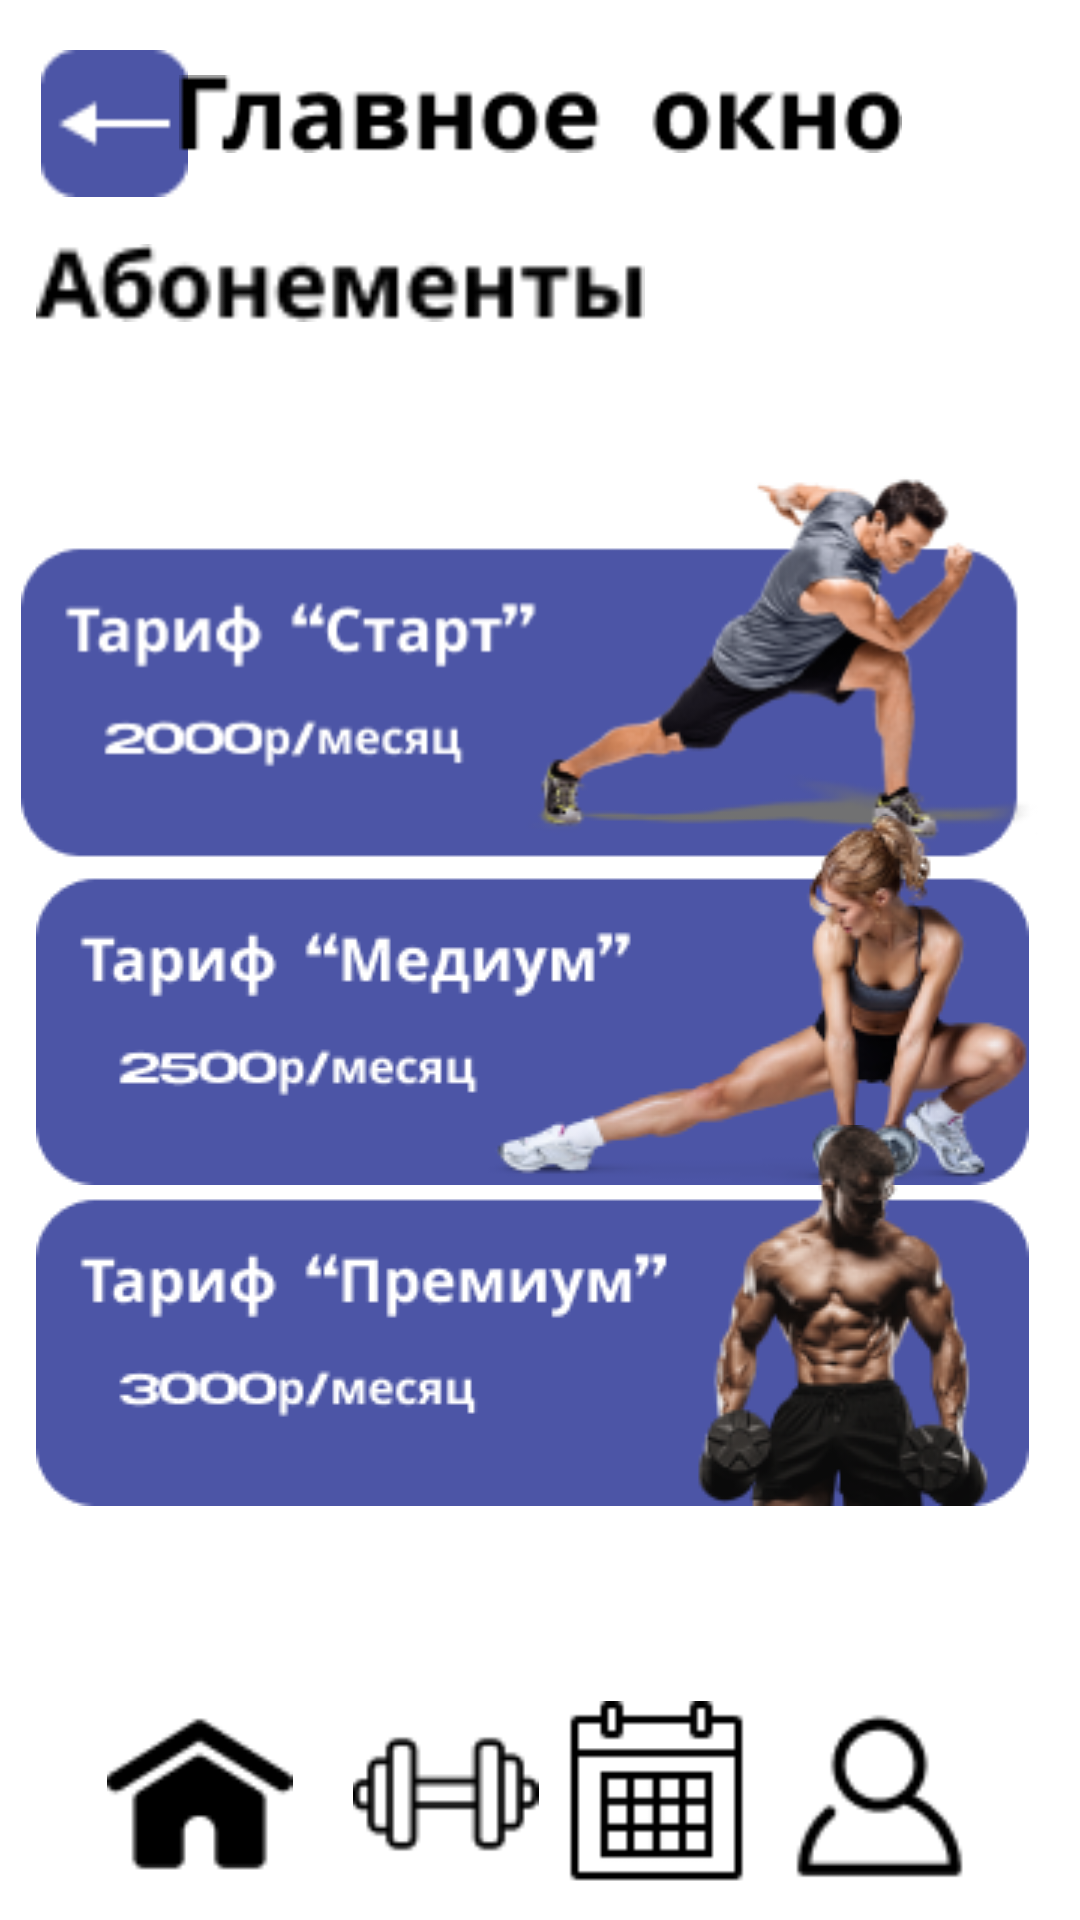

Icon bounding boxes for this 1080w x 1920h phone screenshot, format (x1, y1, x2, y2):
back: (41, 50, 188, 197)
home: (107, 1718, 293, 1870)
profile: (796, 1715, 963, 1877)
schedule: (569, 1701, 744, 1881)
trener: (353, 1737, 539, 1851)
